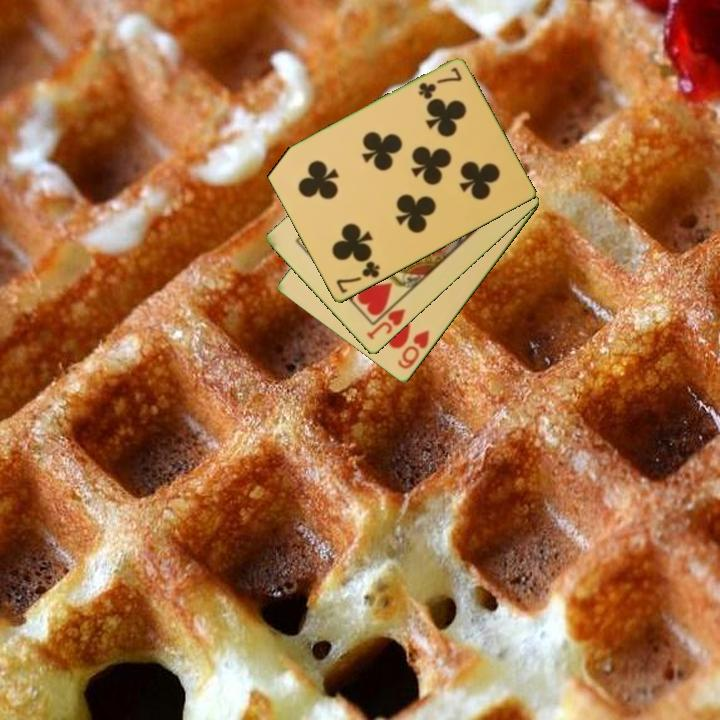6h: (394, 327, 432, 373)
7c: (332, 258, 383, 297), (414, 64, 465, 103)
Jh: (363, 296, 408, 343)
